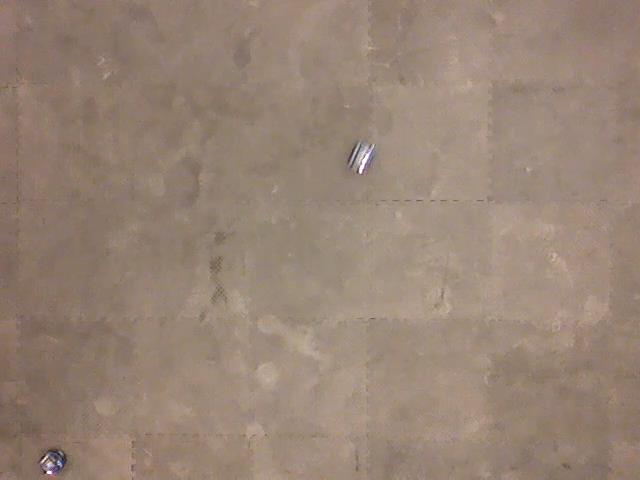Agent: (344, 138, 378, 177), (37, 447, 68, 477)
